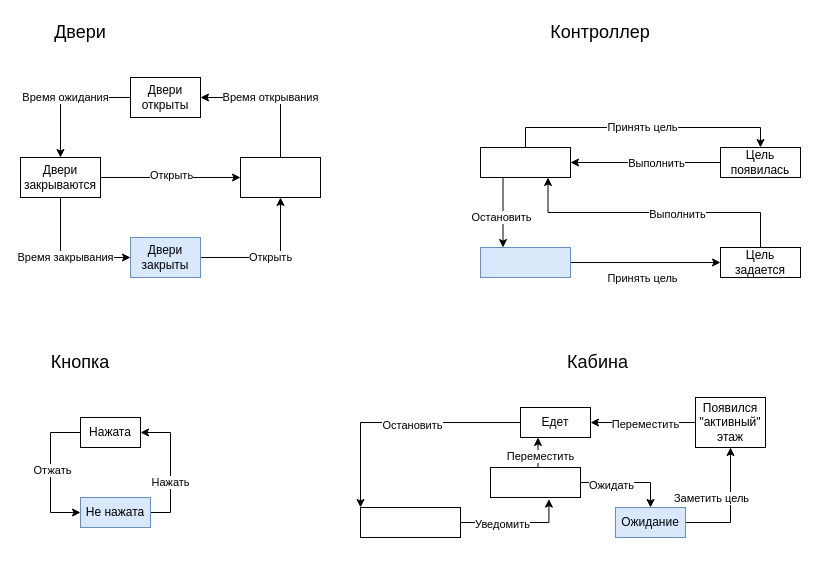
Some shapes in this 818 by 563 pixel diagram are drawn without their labels. The shapes that lost their labels are listed below. From the top down, each one's centre as x and y in pixels, then its label:
point (280, 177): Двери открываются
point (525, 162): Цель есть
point (525, 262): Цели нет
point (535, 482): На нужном месте
point (410, 522): Промежуточная остановка
